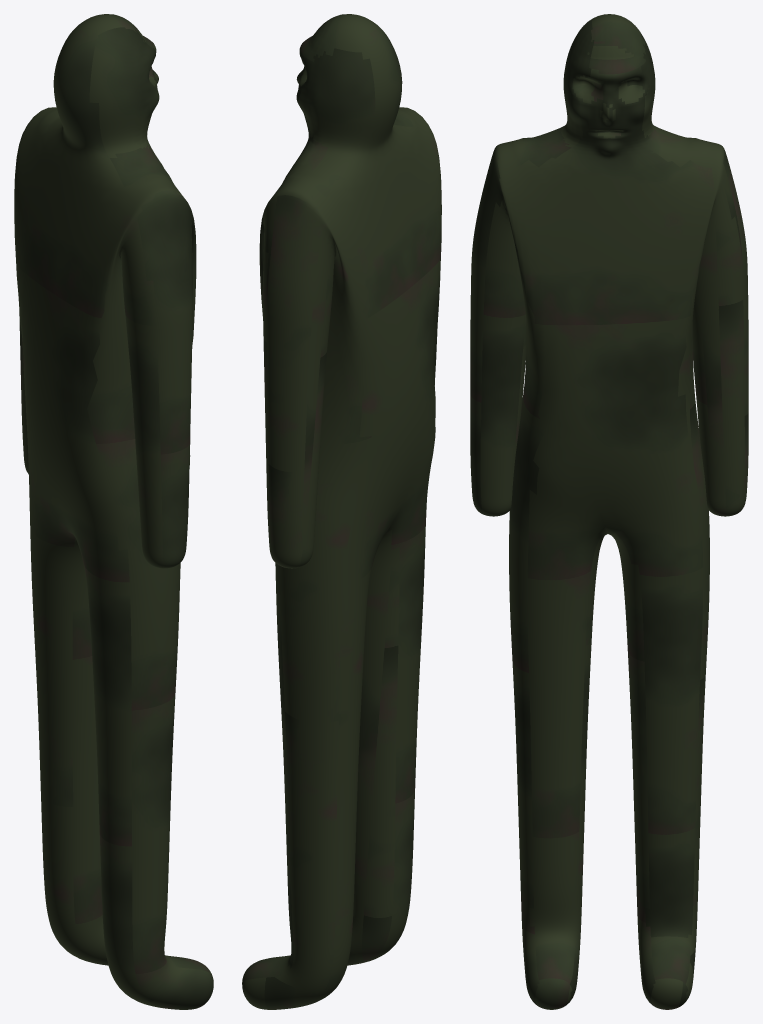
File: Zombie_Body_B.obj
3 renders of one model, left to right at view 1: azimuth 30°, elevation 25°; view 2: azimuth 150°, elevation 25°; view 3: azimuth 270°, elevation 25°, orthographic.
Size of the model in its own units: 0.2668 by 1.84 by 0.4807.
1 material, 1 textured.
